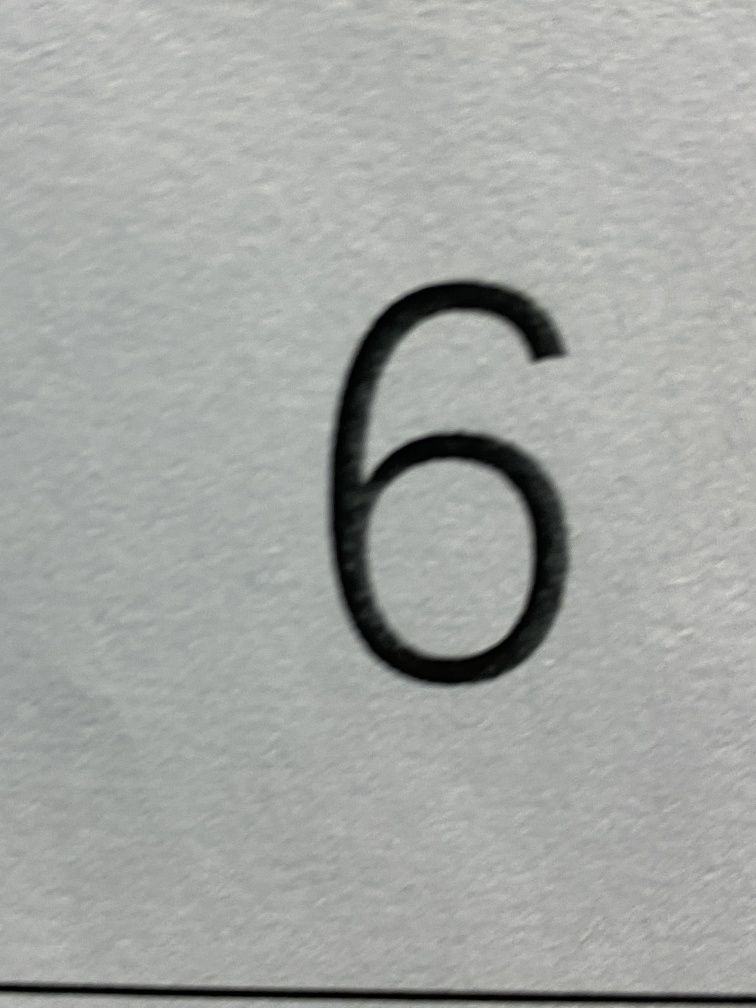six: (238, 195, 658, 786)
